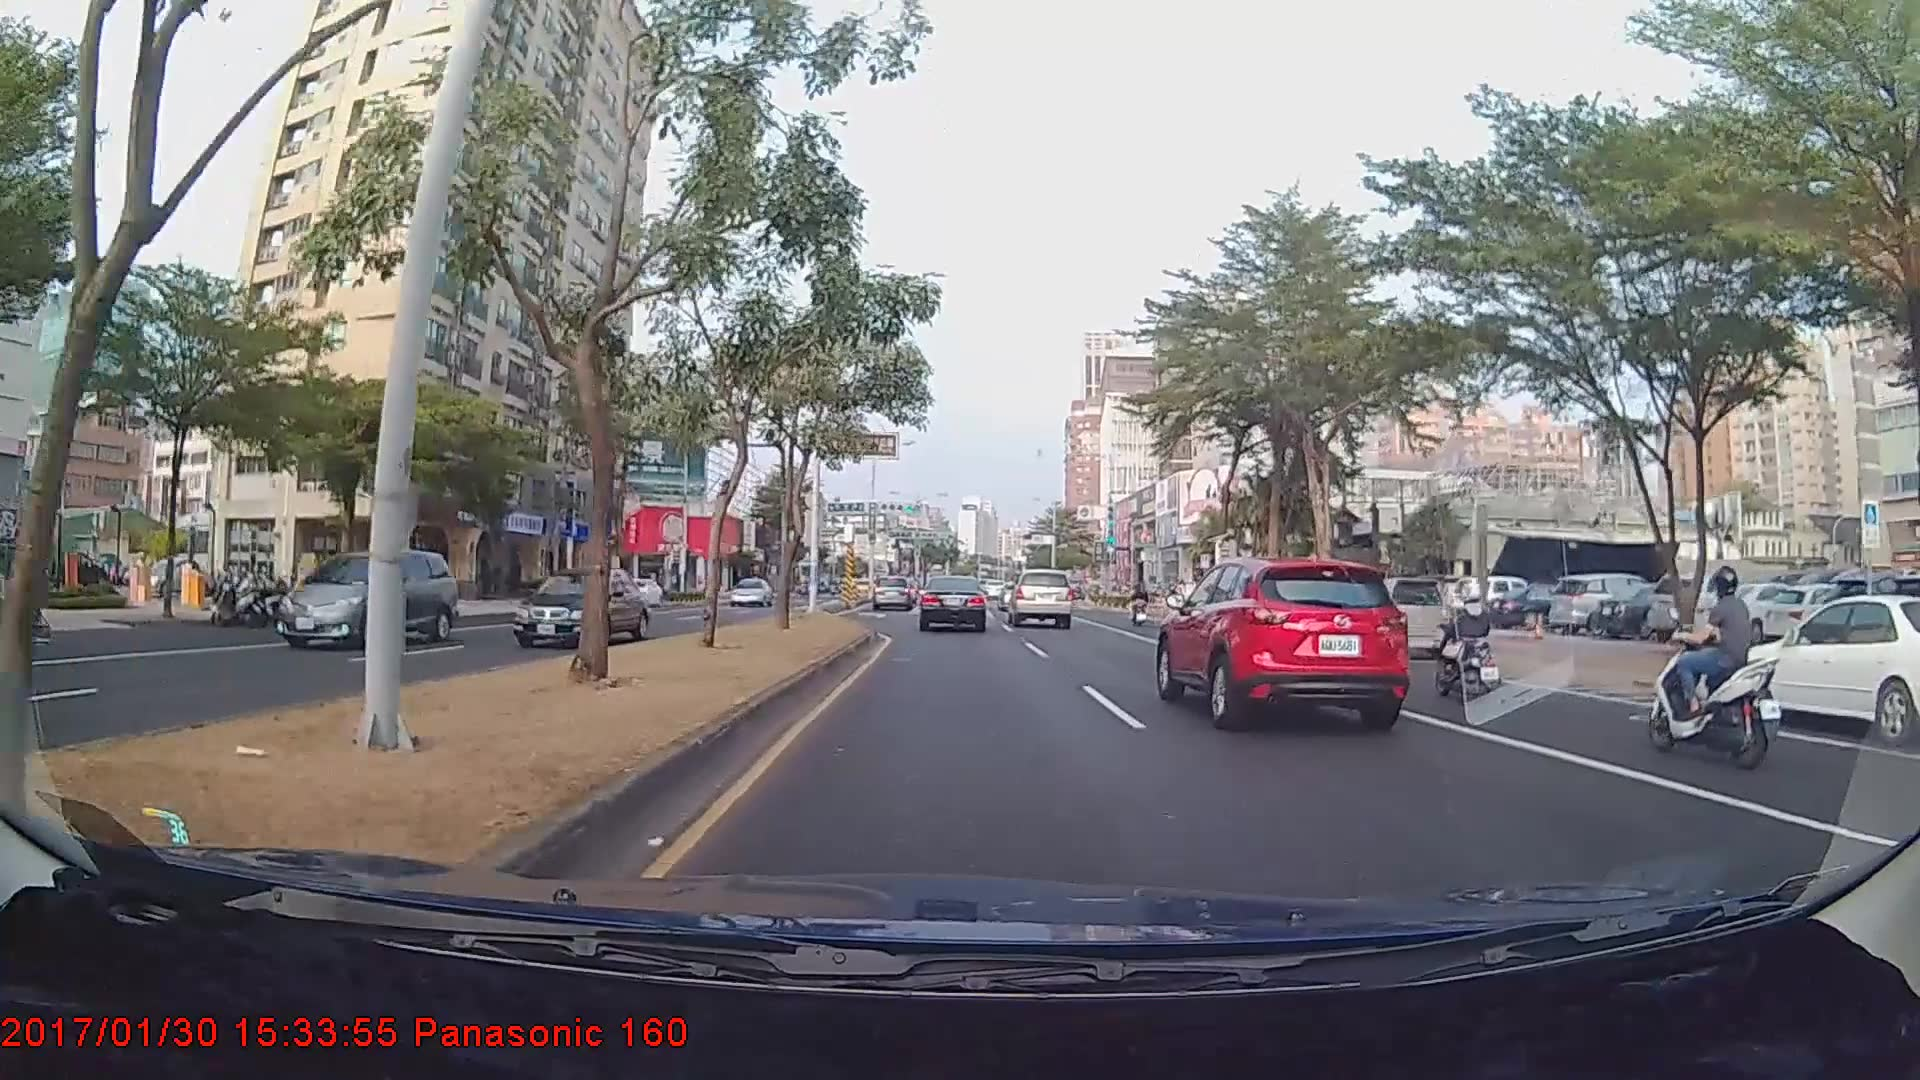rider: (1638, 555, 1789, 768), (1420, 575, 1512, 704), (1130, 581, 1157, 627)
vehicle: (1152, 551, 1408, 730), (1695, 593, 1920, 746), (274, 547, 457, 647), (508, 567, 652, 648), (1342, 576, 1447, 660), (1544, 571, 1669, 636), (1004, 567, 1073, 629), (918, 574, 988, 633), (870, 573, 915, 612), (614, 575, 661, 608), (728, 575, 771, 606)
